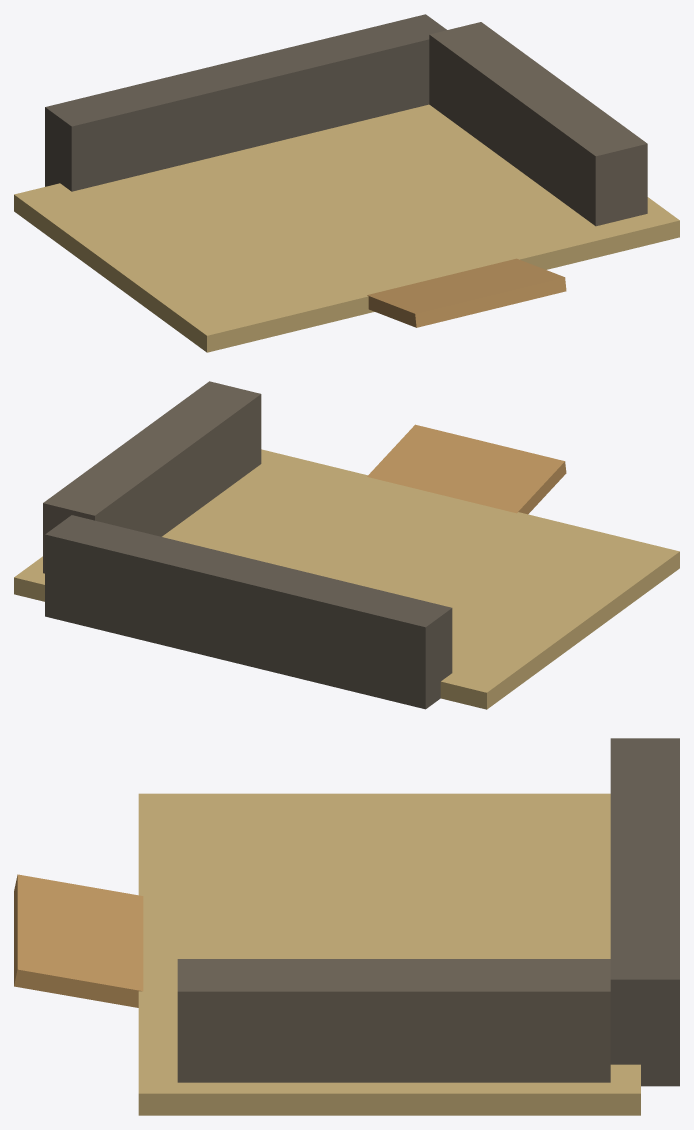
Rendered from metaverse-hub-shoreline-low.gltf.
The picture shows the model from 3 angles, top to bottom: view 1: azimuth 30°, elevation 25°; view 2: azimuth 150°, elevation 25°; view 3: azimuth 270°, elevation 25°; orthographic projection. The views are drawn at different scales.
Visible parts, largest first — view 1: metaverse_hub_shoreline_low; view 2: metaverse_hub_shoreline_low; view 3: metaverse_hub_shoreline_low.
Part boxes in pixels (x1,y1,x2,y2): metaverse_hub_shoreline_low: (14, 14, 679, 352); metaverse_hub_shoreline_low: (14, 381, 679, 709); metaverse_hub_shoreline_low: (14, 738, 679, 1115).
Size of the model in its own units: 8.2 by 1.72 by 7.69.
